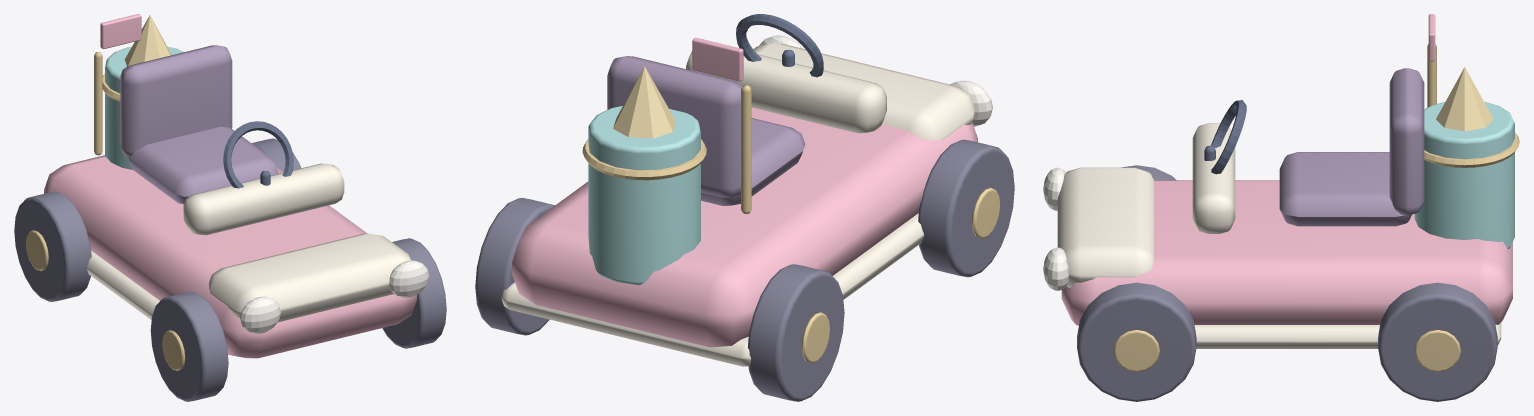
File: Kart.fbx
3 renders of one model, left to right at view 1: azimuth 30°, elevation 25°; view 2: azimuth 150°, elevation 25°; view 3: azimuth 270°, elevation 25°, orthographic. The views are drawn at different scales.
Visible parts, largest first — view 1: Body, Nose, SeatBack, Dashboard, SeatBase, WheelFL, WheelRL, WheelFR, SugarTank, Floor, SteeringWheel, HeadlightL (+7 smaller); view 2: Body, SugarTank, WheelRL, WheelFL, SeatBack, Dashboard, Nose, Floor, WheelRR, SeatBase, CrystalTop, CanopyFlag (+6 smaller); view 3: Body, SugarTank, Nose, WheelFR, WheelRR, SeatBase, SeatBack, Floor, Dashboard, CrystalTop, HubRR, HubFR (+5 smaller).
Boxes of the visible parts, x1=… form: Body: x1=44, y1=155, x2=416, y2=358; Nose: x1=208, y1=233, x2=410, y2=322; SeatBack: x1=120, y1=45, x2=232, y2=157; Dashboard: x1=183, y1=163, x2=344, y2=235; SeatBase: x1=128, y1=126, x2=278, y2=204; WheelFL: x1=150, y1=291, x2=228, y2=401; WheelRL: x1=14, y1=191, x2=91, y2=301; WheelFR: x1=382, y1=238, x2=446, y2=348; SugarTank: x1=105, y1=46, x2=183, y2=169; Floor: x1=87, y1=251, x2=159, y2=319; SteeringWheel: x1=223, y1=121, x2=293, y2=188; HeadlightL: x1=239, y1=296, x2=280, y2=333; Body: x1=512, y1=107, x2=977, y2=347; SugarTank: x1=588, y1=105, x2=700, y2=285; WheelRL: x1=747, y1=264, x2=844, y2=401; WheelFL: x1=918, y1=139, x2=1014, y2=277; SeatBack: x1=607, y1=56, x2=742, y2=197; Dashboard: x1=686, y1=51, x2=886, y2=133; Nose: x1=753, y1=43, x2=974, y2=140; Floor: x1=501, y1=213, x2=924, y2=366; WheelRR: x1=475, y1=197, x2=554, y2=335; SeatBase: x1=701, y1=118, x2=805, y2=205; CrystalTop: x1=613, y1=66, x2=676, y2=138; CanopyFlag: x1=692, y1=37, x2=743, y2=81; Body: x1=1061, y1=180, x2=1512, y2=325; SugarTank: x1=1414, y1=102, x2=1514, y2=248; Nose: x1=1057, y1=167, x2=1154, y2=287; WheelFR: x1=1077, y1=282, x2=1196, y2=401; WheelRR: x1=1378, y1=282, x2=1497, y2=401; SeatBase: x1=1279, y1=152, x2=1411, y2=226; SeatBack: x1=1389, y1=68, x2=1424, y2=215; Floor: x1=1194, y1=322, x2=1501, y2=348; Dashboard: x1=1192, y1=123, x2=1235, y2=233; CrystalTop: x1=1436, y1=67, x2=1493, y2=131; HubRR: x1=1414, y1=330, x2=1460, y2=371; HubFR: x1=1113, y1=330, x2=1159, y2=371.
Bounding box in the file's own units: 168 × 166 × 247.
